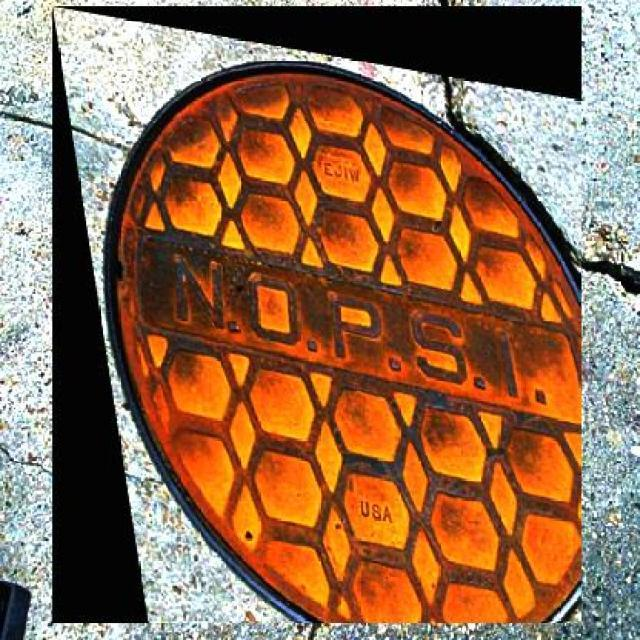Manhole: (52, 6, 582, 623)
